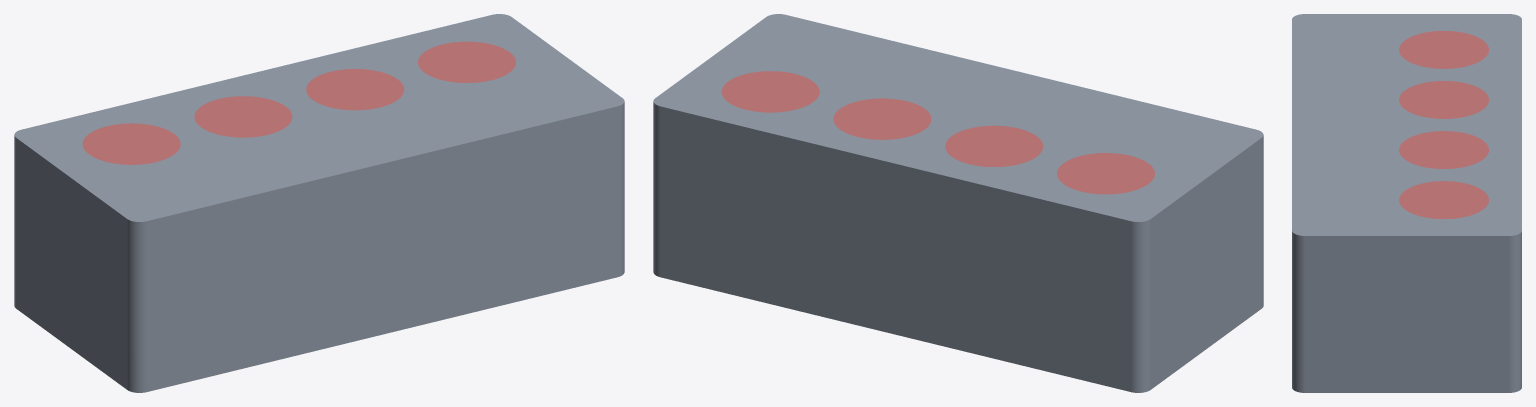
Rendered from step_02.glb.
The picture shows the model from 3 angles, left to right: view 1: azimuth 30°, elevation 25°; view 2: azimuth 150°, elevation 25°; view 3: azimuth 270°, elevation 25°; orthographic projection. The views are drawn at different scales.
Parts seen in each view (by area): view 1: part__cylinder block (deck), removed__cylinder block (deck); view 2: part__cylinder block (deck), removed__cylinder block (deck); view 3: part__cylinder block (deck), removed__cylinder block (deck).
Boxes of the visible parts, x1,y1,x2,y2 form: part__cylinder block (deck): (14, 14, 624, 392); removed__cylinder block (deck): (82, 41, 515, 164); part__cylinder block (deck): (653, 14, 1263, 392); removed__cylinder block (deck): (721, 71, 1154, 194); part__cylinder block (deck): (1292, 14, 1521, 392); removed__cylinder block (deck): (1399, 31, 1488, 219).
Bounding box in the file's own units: 546 × 180 × 239.
